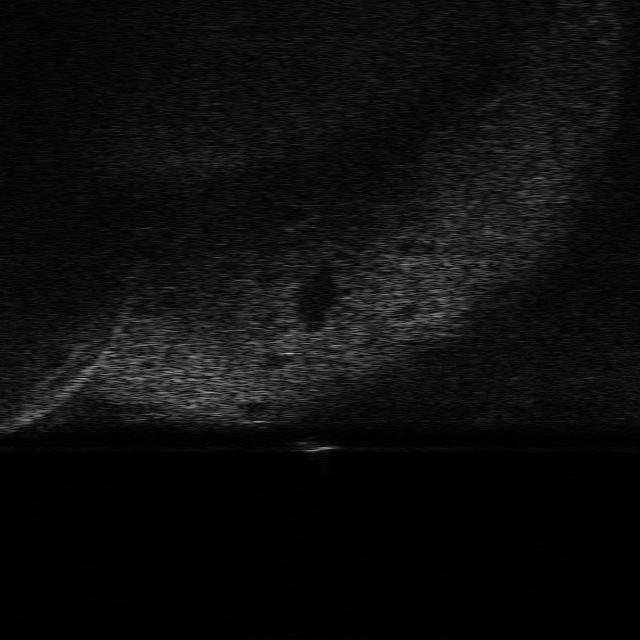cube: (295, 435, 339, 456)
